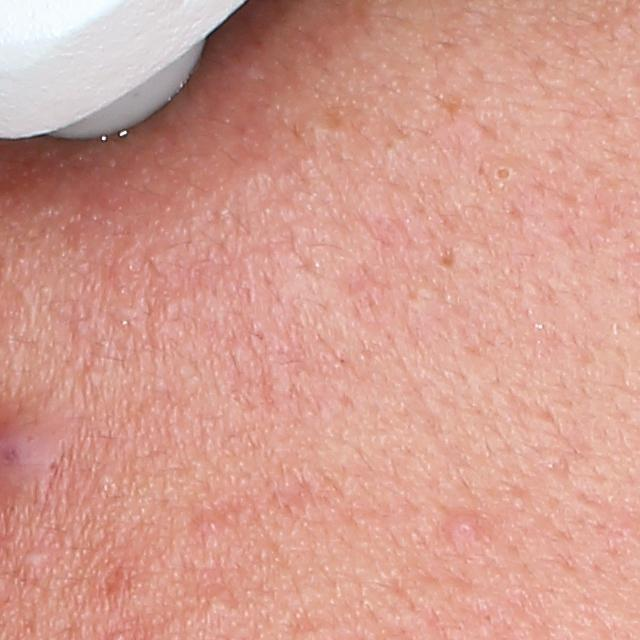comedo: (480, 155, 535, 194), (21, 544, 53, 580), (439, 244, 466, 273)
papule: (451, 509, 483, 548)
